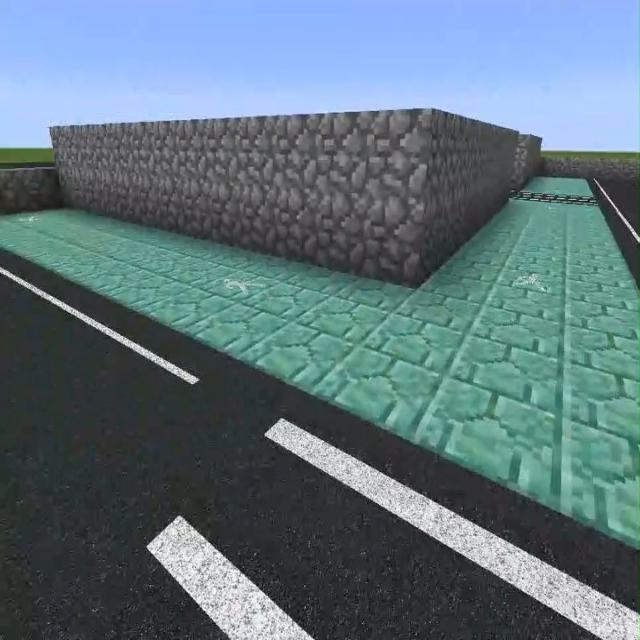8: (510, 194, 599, 206)
crosswalk: (1, 250, 639, 639), (589, 180, 639, 291)
road: (0, 203, 639, 543), (520, 176, 593, 196)
